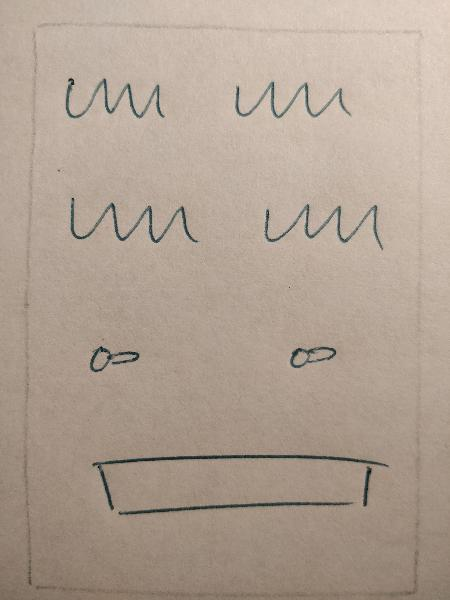switch: (76, 330, 155, 390), (271, 330, 350, 378)
text: (64, 184, 205, 259), (255, 187, 390, 261), (227, 68, 364, 138), (56, 64, 178, 129)
text_input: (69, 449, 399, 522)
